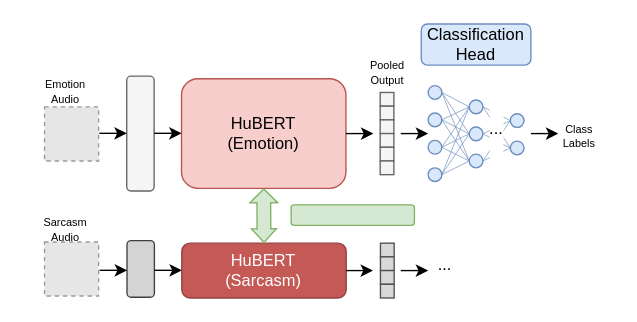
The diagram is 637 pixels wide and 322 high, and some of its shapes have lost their labels. Grey dashed boxes stand in for pictures. Each missing label, with the centre of its shape:
Audio Featurizer: [139,133]
Transfer Learning: [352,214]
